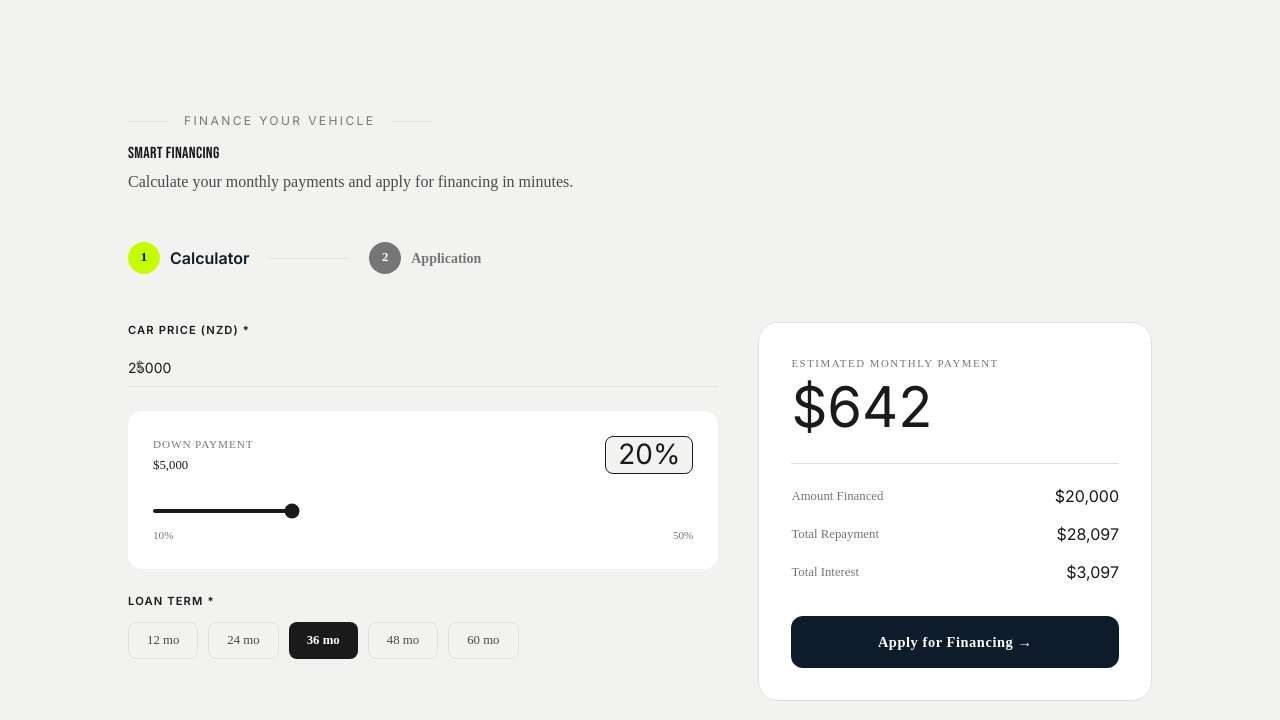
Test: Financing Page › Step Navigation › Apply button opens step 2
Click the button "Apply for Financing →": (955, 642) [791, 616, 1119, 668]
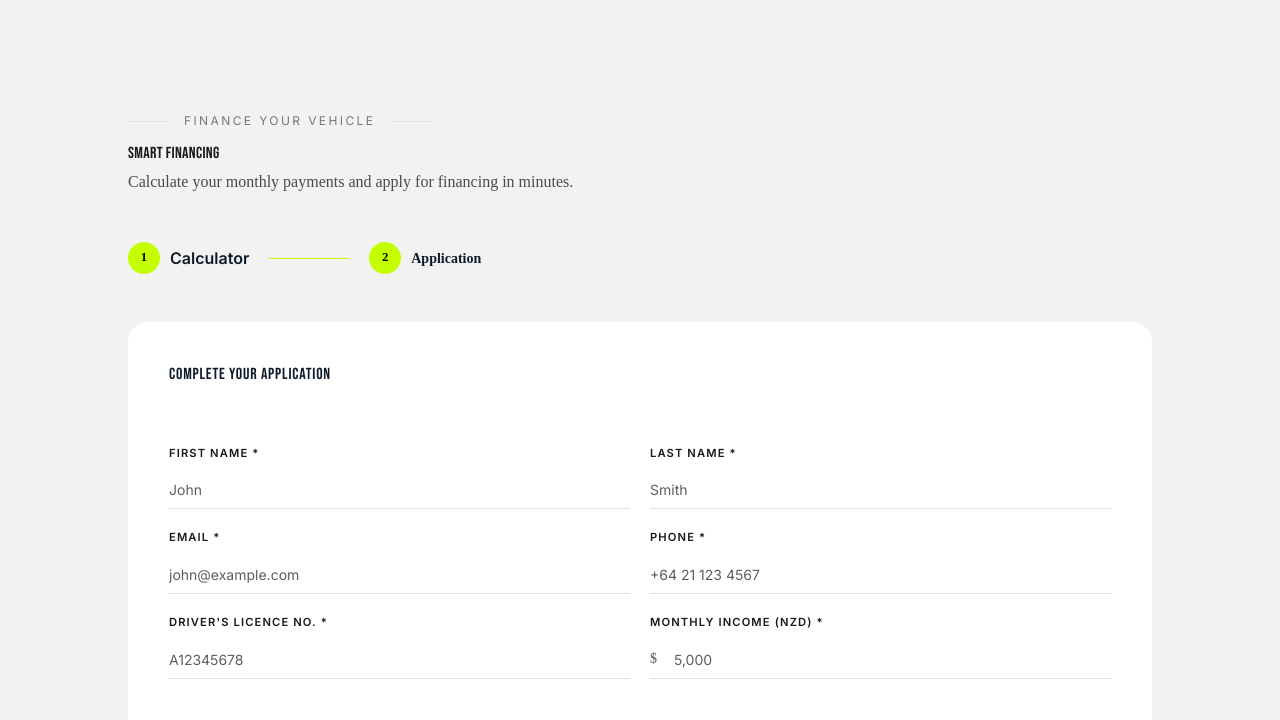
Now the heading "Complete Your Application" is shown, box [169, 365, 331, 384]
